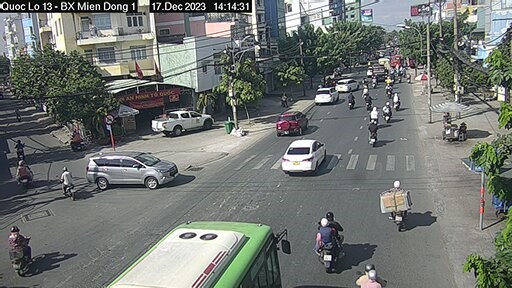bus: (155, 216, 288, 288)
car: (88, 151, 175, 190), (281, 138, 327, 177), (150, 108, 211, 134), (276, 108, 309, 138), (314, 86, 338, 104), (336, 77, 359, 93)
motorbike: (315, 214, 341, 272), (387, 180, 413, 233), (366, 119, 380, 145), (346, 89, 357, 112), (385, 99, 394, 123), (393, 95, 403, 114)
